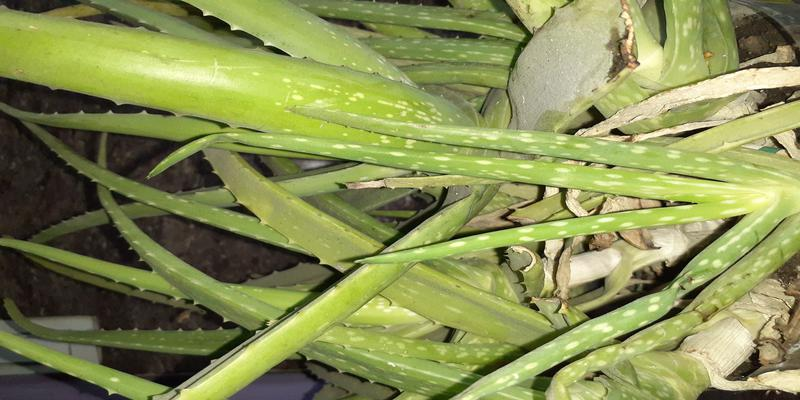Aloevera: (137, 13, 783, 386)
